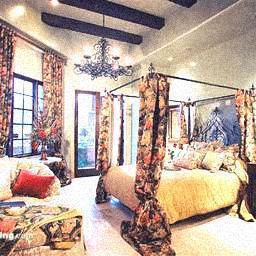Puerta: (77, 92, 101, 174)
